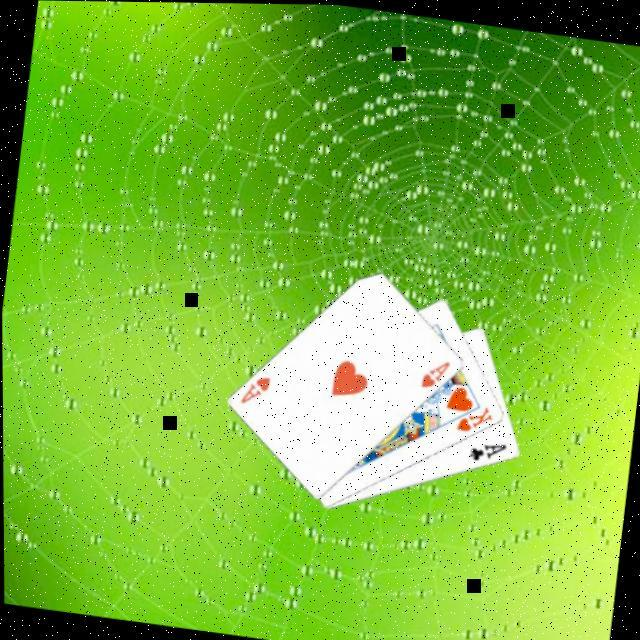AC: (465, 436, 510, 468)
AH: (236, 371, 274, 411), (418, 354, 454, 394)
KH: (452, 399, 496, 439)
